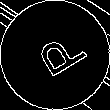P_SW: (24, 26, 86, 84)
